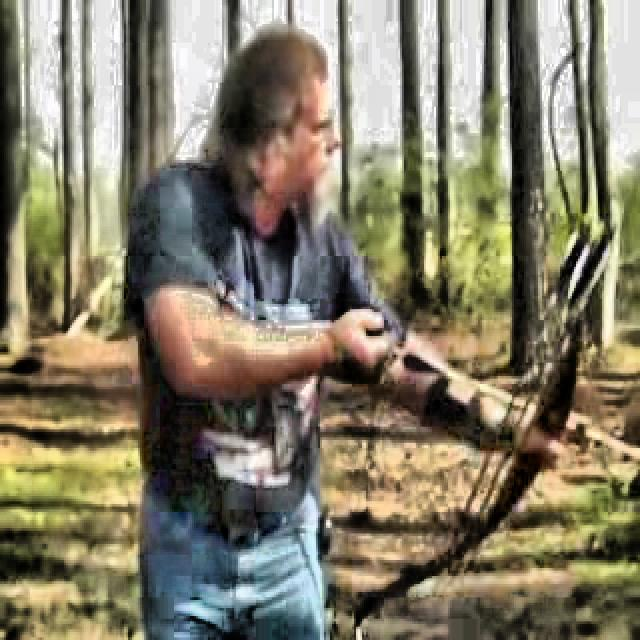I: (109, 12, 577, 640)
